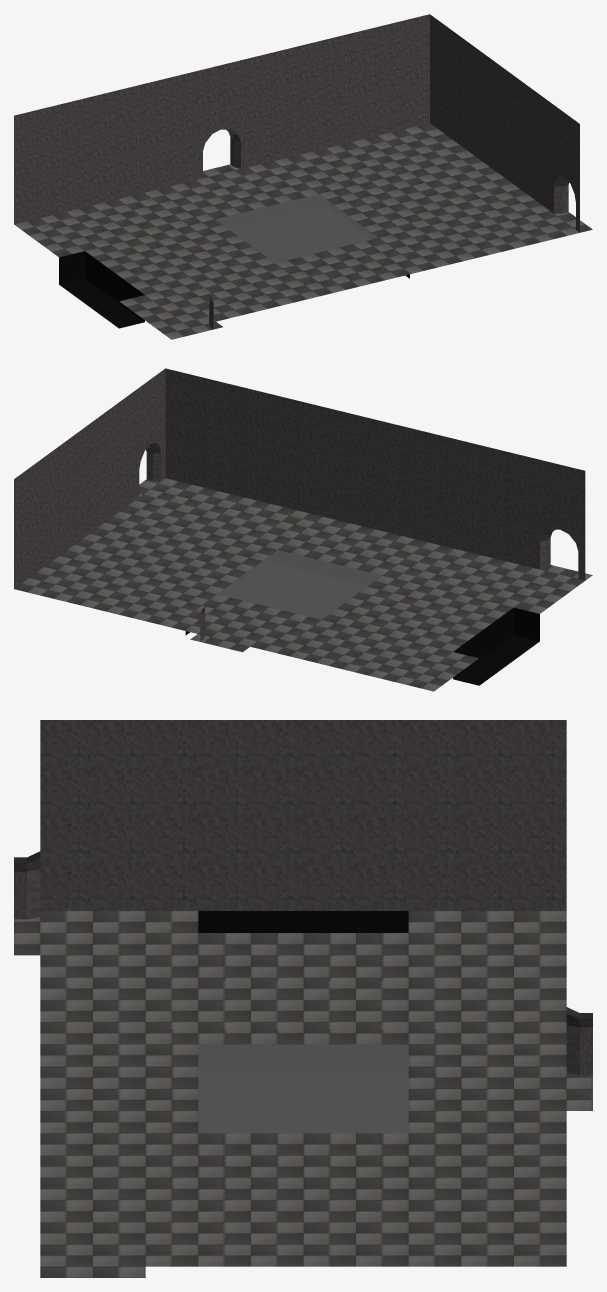
File: Room14.glb
3 renders of one model, top to bottom at view 1: azimuth 30°, elevation 25°; view 2: azimuth 150°, elevation 25°; view 3: azimuth 270°, elevation 25°, orthographic. The views are drawn at different scales.
Parts seen in each view (by area): view 1: Floor.018, Wall2, Wall3, Underground, Glass; view 2: Floor.018, Wall4, Wall3, Underground, Glass; view 3: Floor.018, Wall1, Underground, Glass, Wall4, Wall2.
Boxes of the visible parts, bbox=[...] form: Floor.018: bbox=[14, 123, 592, 339]; Wall2: bbox=[14, 14, 429, 224]; Wall3: bbox=[430, 14, 579, 232]; Underground: bbox=[59, 194, 409, 328]; Glass: bbox=[215, 194, 378, 262]; Floor.018: bbox=[14, 478, 592, 691]; Wall4: bbox=[165, 368, 585, 580]; Wall3: bbox=[14, 368, 165, 588]; Underground: bbox=[185, 550, 539, 685]; Glass: bbox=[217, 550, 381, 619]; Floor.018: bbox=[14, 911, 592, 1277]; Wall1: bbox=[40, 720, 566, 910]; Underground: bbox=[198, 911, 408, 1133]; Glass: bbox=[198, 1044, 408, 1132]; Wall4: bbox=[14, 851, 40, 919]; Wall2: bbox=[566, 1007, 592, 1075].
Bounding box in the file's own units: 16.5 × 5.38 × 11.
Materials: 5 (3 with a texture image).
